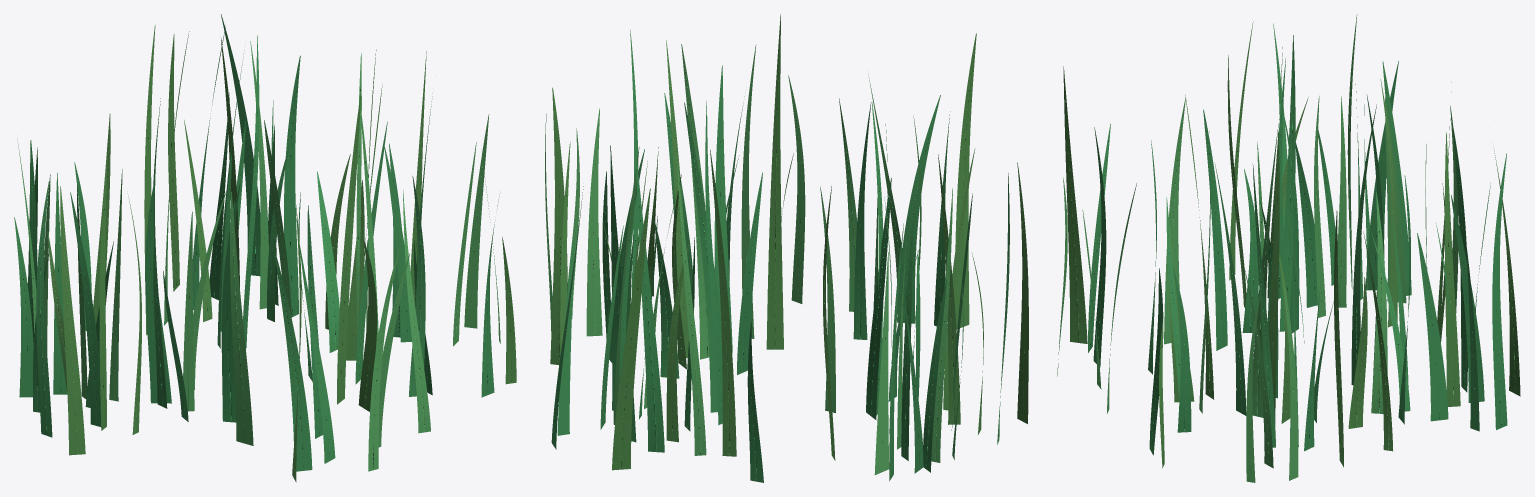
File: tropical_seagrass_lush_animated.glb
3 views of the same model, side by side, from view 1: azimuth 30°, elevation 25°; view 2: azimuth 150°, elevation 25°; view 3: azimuth 270°, elevation 25° (orthographic). The views are drawn at different scales.
Parts seen in each view (by area): view 1: SeaGrass_Group_3_NODE, SeaGrass_Group_4_NODE, SeaGrass_Group_2_NODE, SeaGrass_Group_1_NODE; view 2: SeaGrass_Group_4_NODE, SeaGrass_Group_3_NODE, SeaGrass_Group_1_NODE, SeaGrass_Group_2_NODE; view 3: SeaGrass_Group_1_NODE, SeaGrass_Group_4_NODE, SeaGrass_Group_2_NODE, SeaGrass_Group_3_NODE.
Part boxes in pixels (bbox=[...]): SeaGrass_Group_3_NODE: bbox=[17, 31, 500, 471]; SeaGrass_Group_4_NODE: bbox=[47, 25, 516, 482]; SeaGrass_Group_2_NODE: bbox=[14, 35, 432, 471]; SeaGrass_Group_1_NODE: bbox=[28, 14, 499, 438]; SeaGrass_Group_4_NODE: bbox=[550, 14, 1028, 470]; SeaGrass_Group_3_NODE: bbox=[545, 44, 952, 474]; SeaGrass_Group_1_NODE: bbox=[551, 93, 972, 482]; SeaGrass_Group_2_NODE: bbox=[557, 30, 1009, 481]; SeaGrass_Group_1_NODE: bbox=[1148, 58, 1507, 455]; SeaGrass_Group_4_NODE: bbox=[1063, 21, 1520, 468]; SeaGrass_Group_2_NODE: bbox=[1088, 23, 1479, 447]; SeaGrass_Group_3_NODE: bbox=[1057, 14, 1458, 482].
Bounding box in the file's own units: 1.45 × 0.9703 × 1.33.
